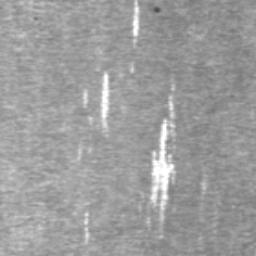White rust: (149, 77, 177, 234), (99, 70, 110, 131), (132, 0, 140, 49), (78, 141, 93, 160), (82, 212, 90, 246), (81, 88, 89, 109), (201, 173, 208, 196), (87, 115, 94, 130), (128, 61, 134, 74)
